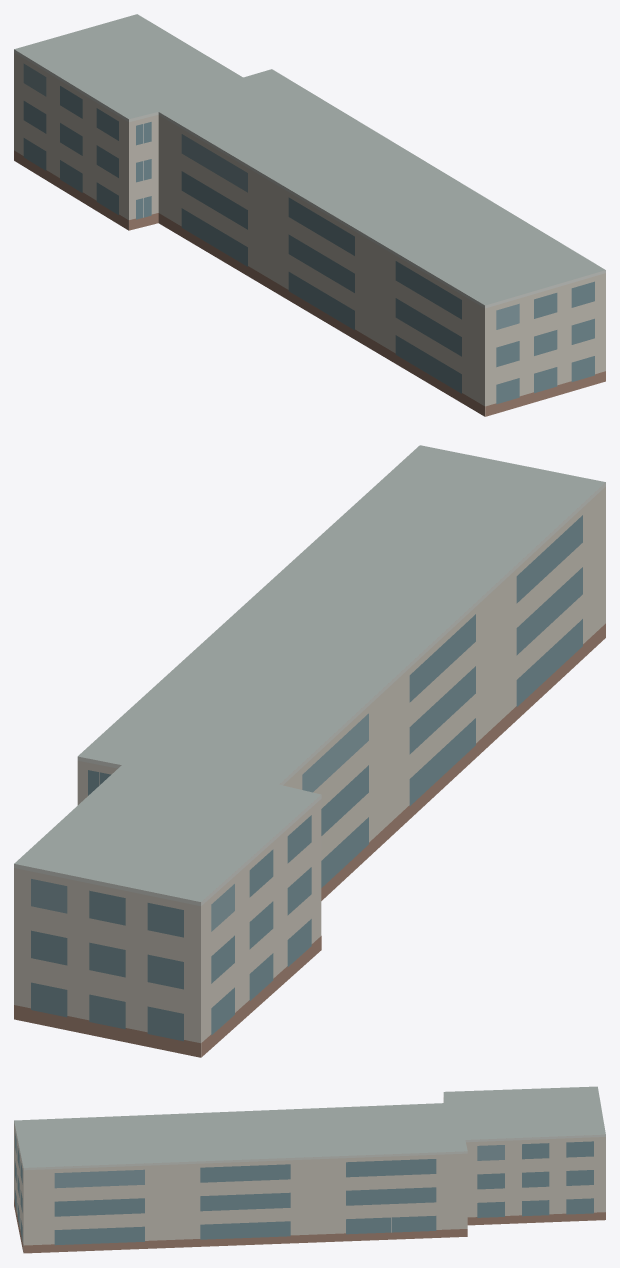
Rendered from survey-upis-32554656.glb.
3 renders of one model, top to bottom at view 1: azimuth 30°, elevation 25°; view 2: azimuth 150°, elevation 25°; view 3: azimuth 270°, elevation 25°, orthographic. The views are drawn at different scales.
Parts seen in each view (by area): view 1: survey-upis-32554656.tmp; view 2: survey-upis-32554656.tmp; view 3: survey-upis-32554656.tmp.
Boxes of the visible parts, x1,y1,x2,y2 form: survey-upis-32554656.tmp: [14, 14, 605, 416]; survey-upis-32554656.tmp: [14, 445, 605, 1057]; survey-upis-32554656.tmp: [14, 1086, 605, 1253].
Bounding box in the file's own units: 18.73 × 9.15 × 57.45.
